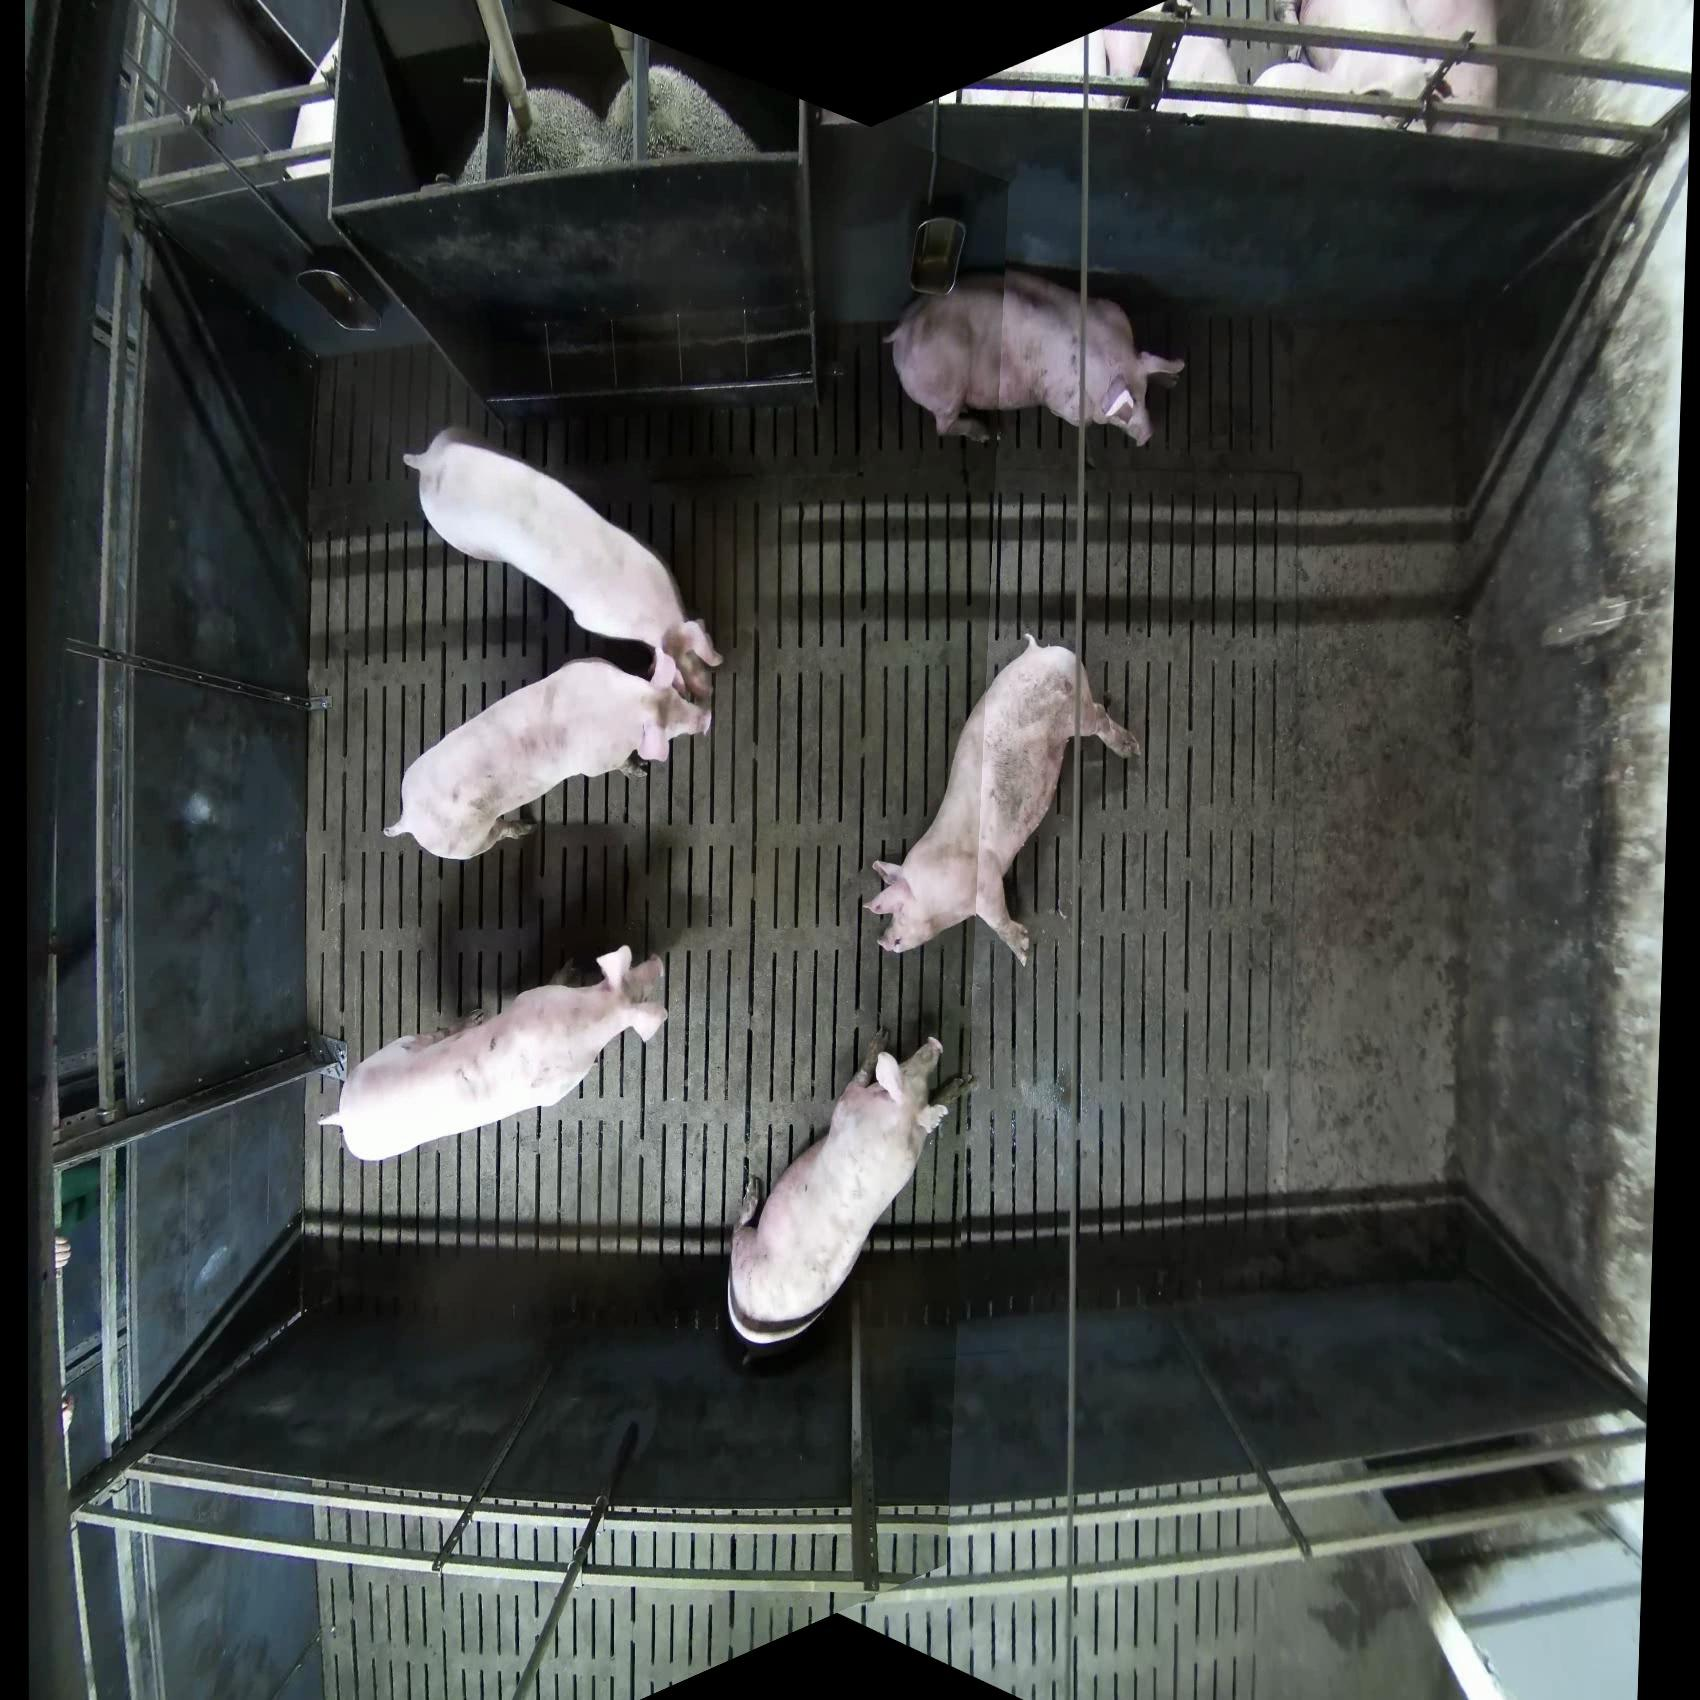pig: (402, 423, 724, 722), (862, 632, 1141, 971), (725, 1035, 978, 1348), (318, 943, 669, 1164), (381, 655, 711, 862), (884, 268, 1186, 451), (1249, 2, 1501, 140), (1098, 19, 1245, 120)
